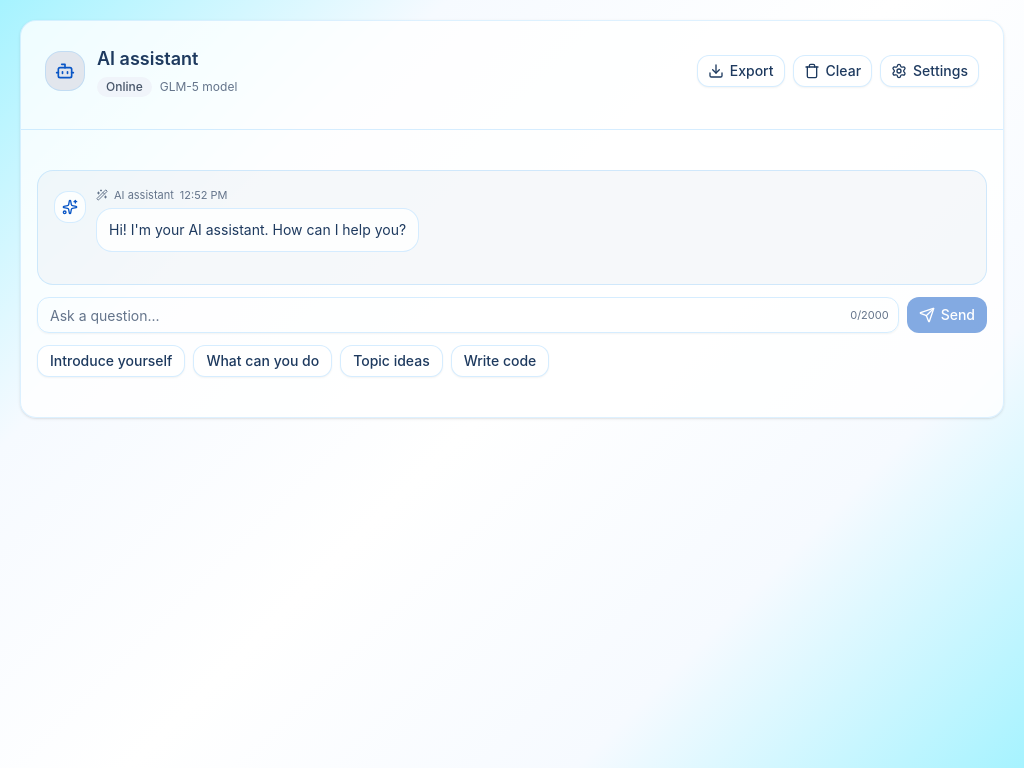
Scenario: AiChatPage 英文界面 › 后端失败：报错条与错误气泡是英文，API 层的兜底文案（aiChat.ts）也是英文
Type "hello" into the field with placeholder "Ask a question..." at (468, 315), box [37,297,899,333]
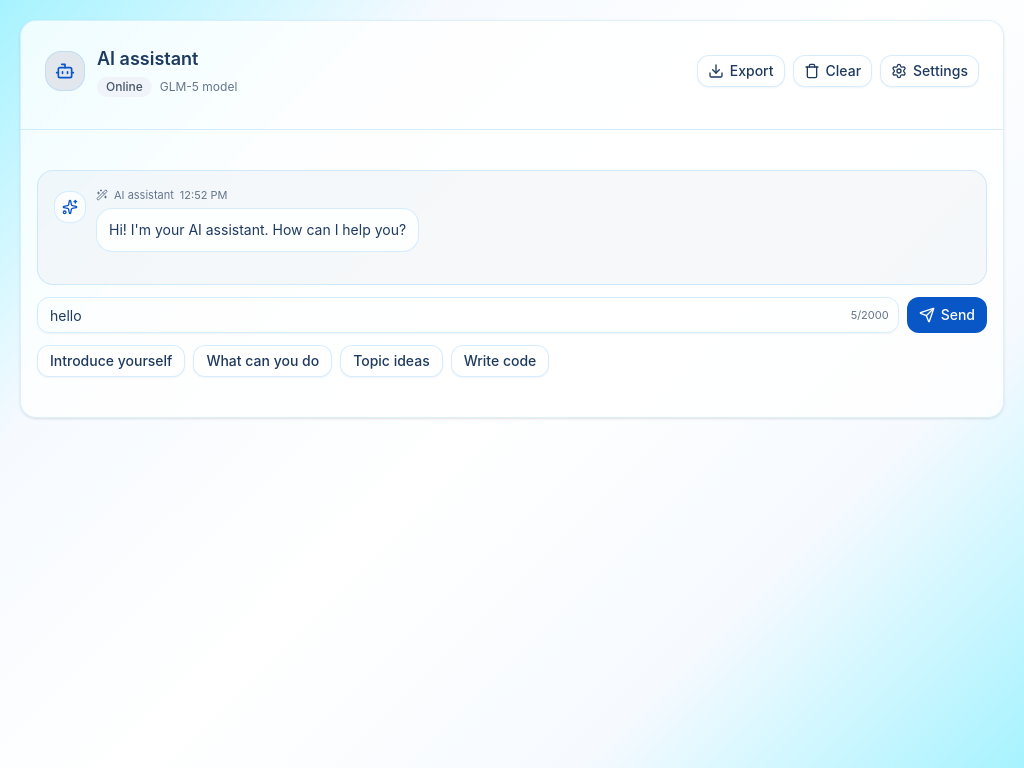
Submit the form with placeholder "Ask a question...", box [37,297,987,377]
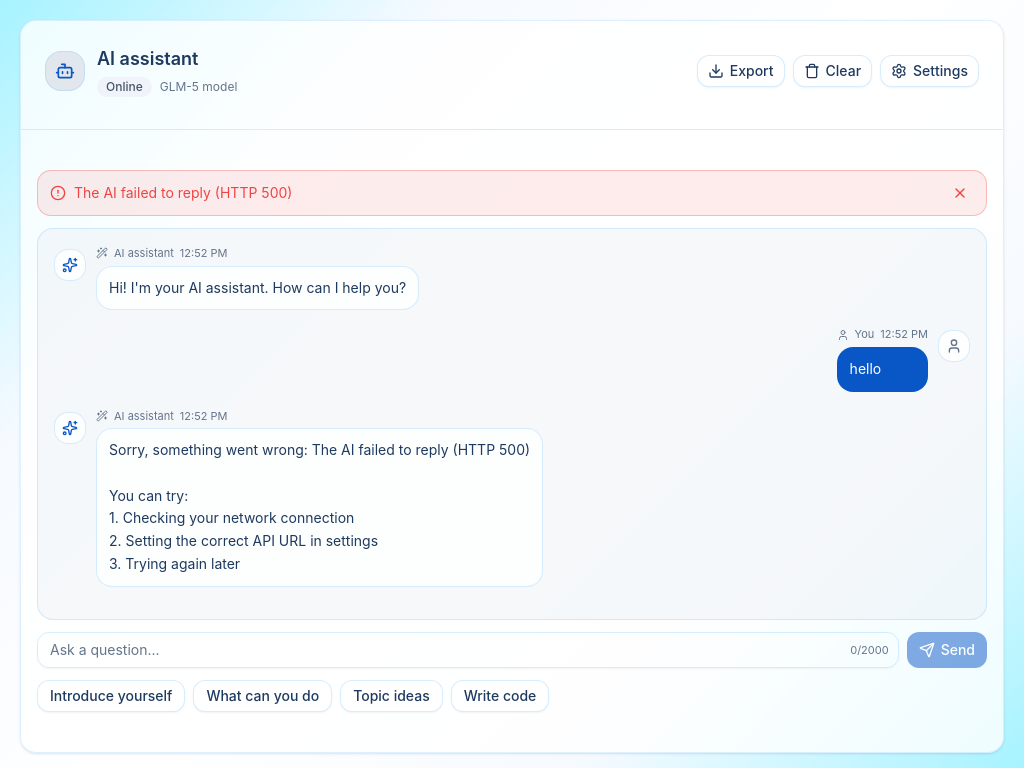
Check: the text "The AI failed to reply (HTTP 500)" is shown, box [74,184,292,201]
Check: the text "Sorry, something went wrong: The AI failed to reply (HTTP 500) You can try:" is shown, box [109,441,530,572]
